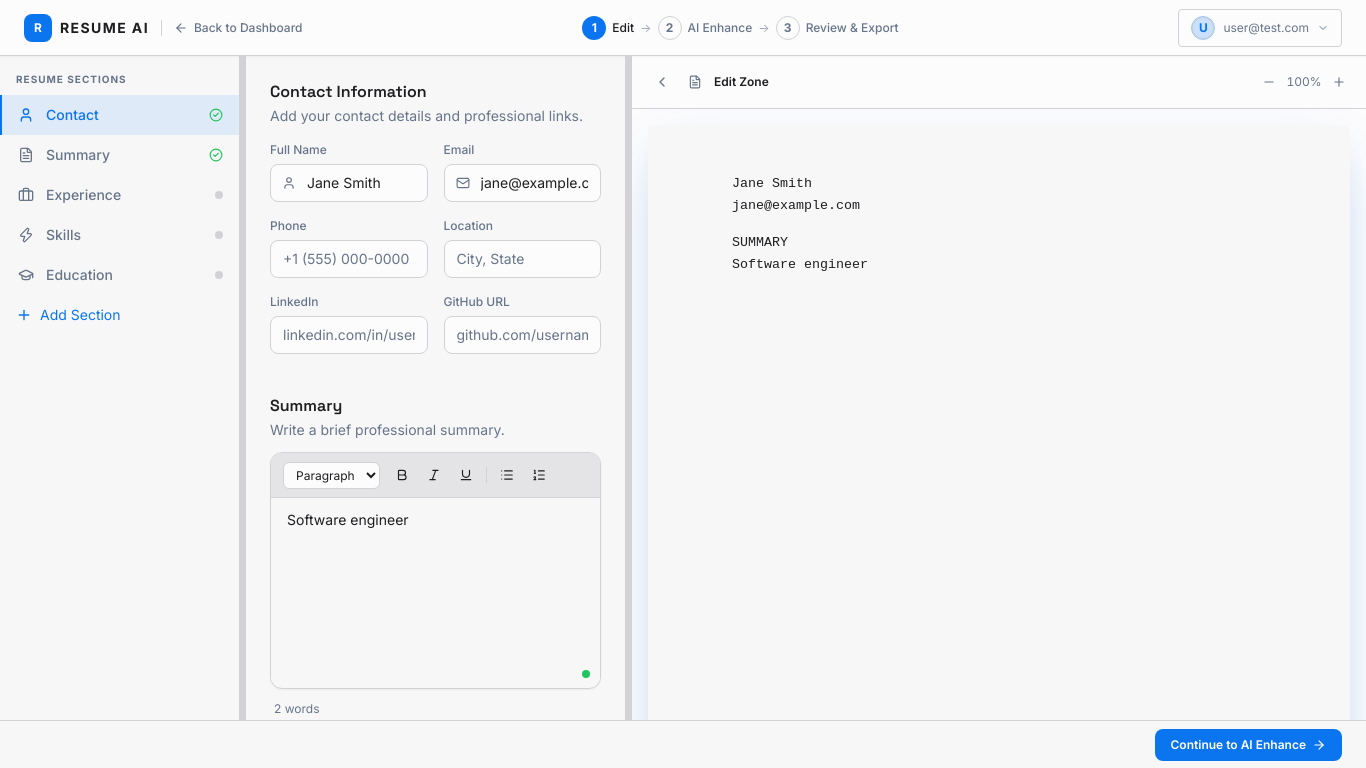
Scenario: ResumeEditor — save dialog › Cancel button closes the save dialog without saving
The width and height of the screenshot is (1366, 768).
Click the button "Continue to AI Enhance" at (1248, 744), box [1154,728,1342,760]
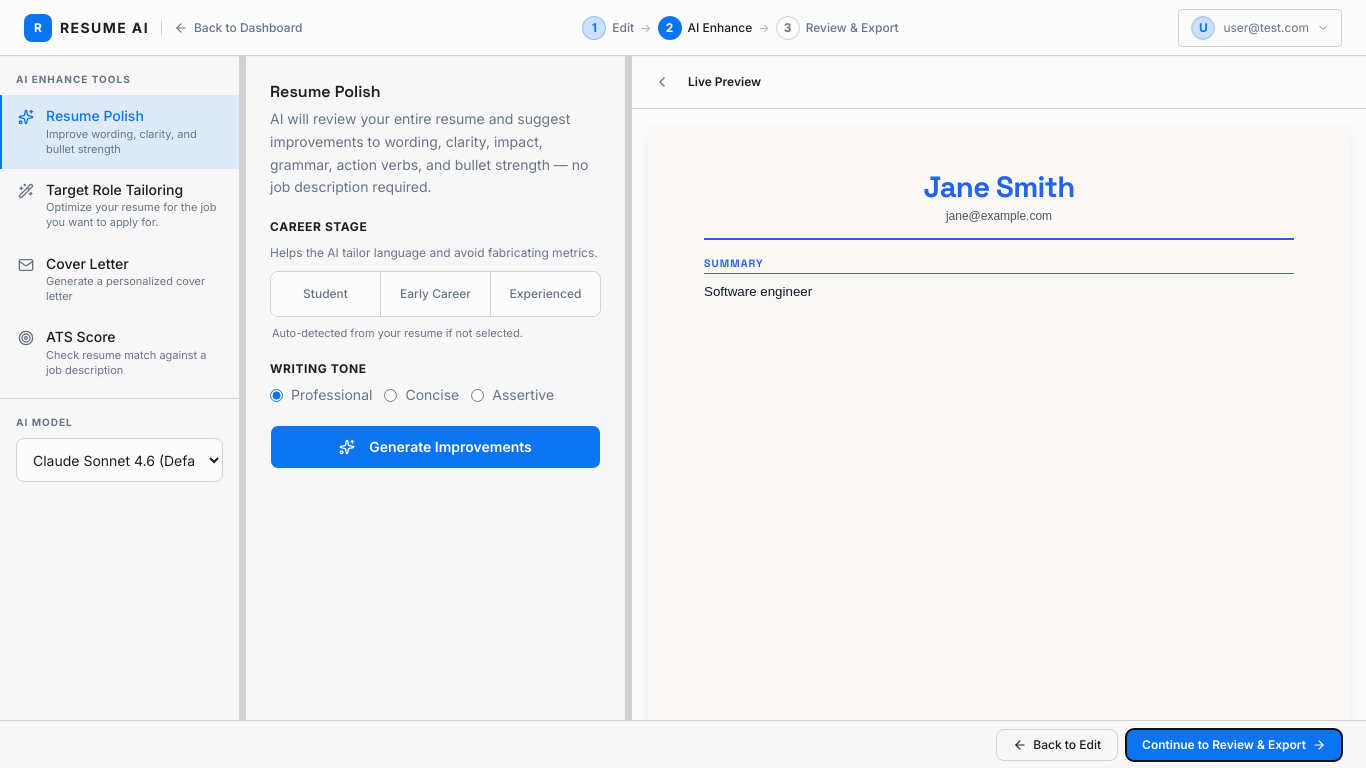
Click the button "Continue to Review & Export" at (1234, 744), box [1126,728,1342,760]
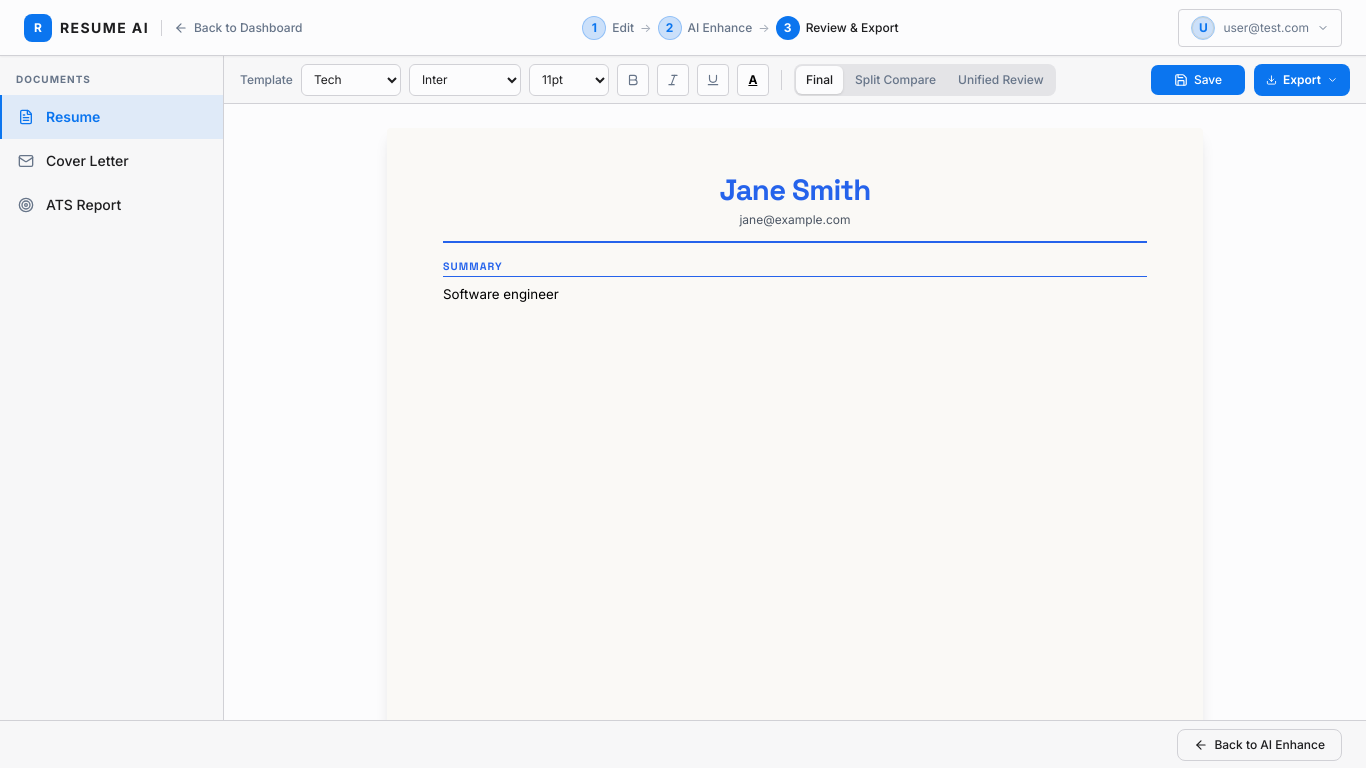
Click the button "Save" at (1198, 80), box [1150,64,1246,96]
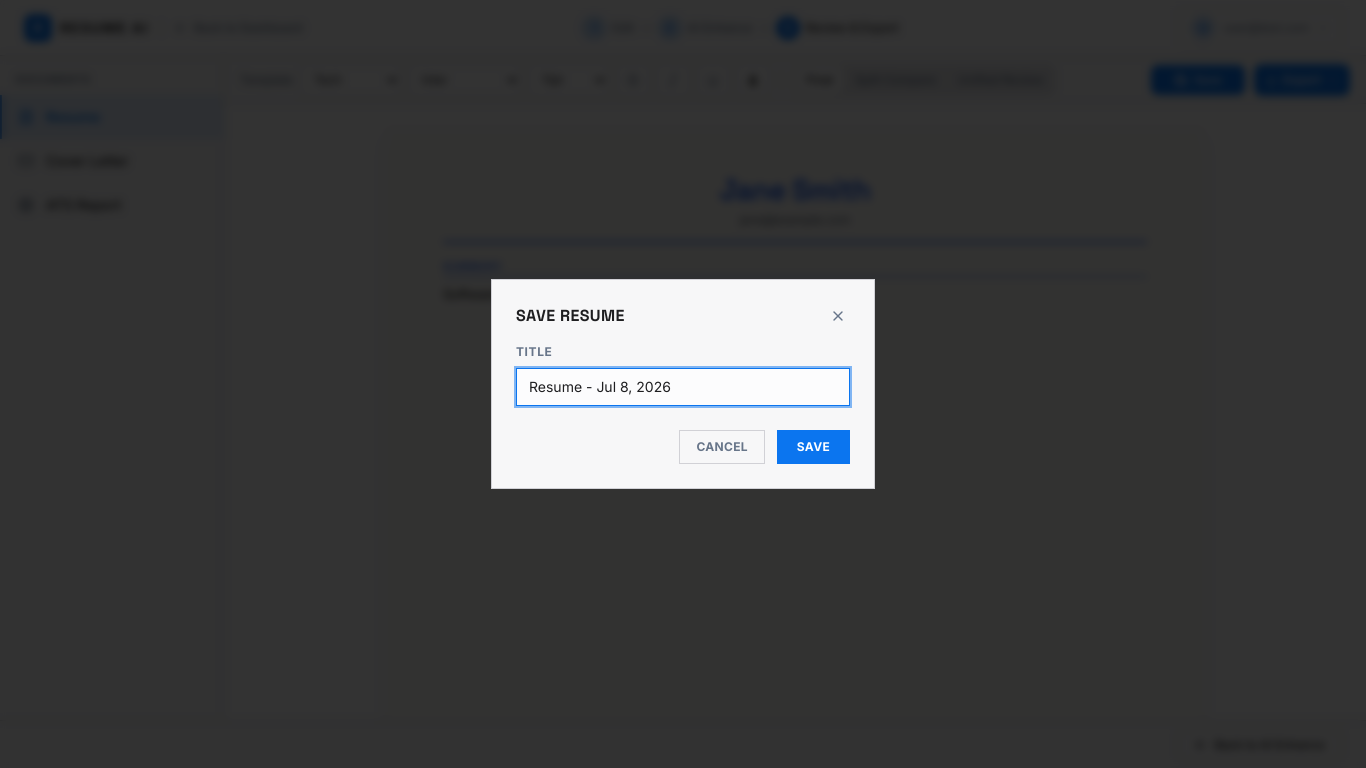
Click the button "Cancel" at (722, 447), box [680,430,765,464]
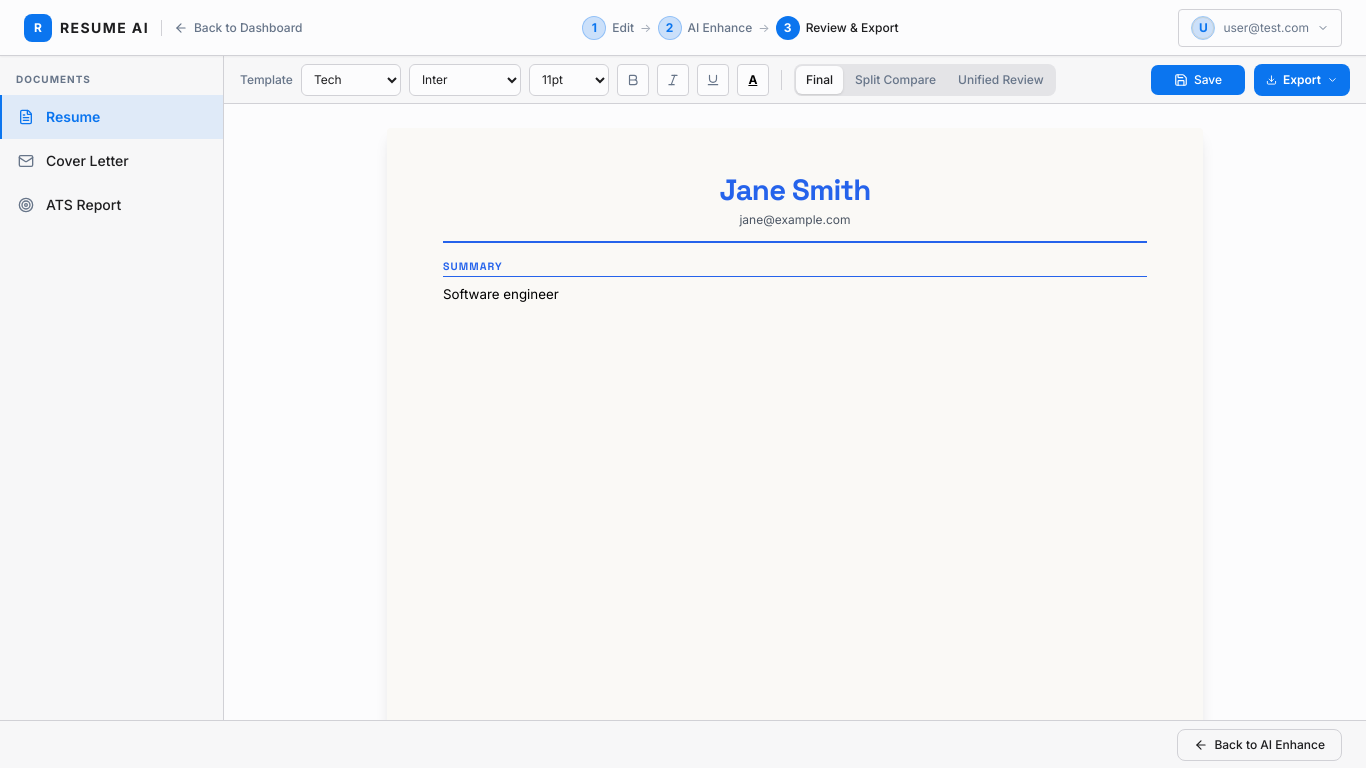
Now the heading "Save Resume" is gone
